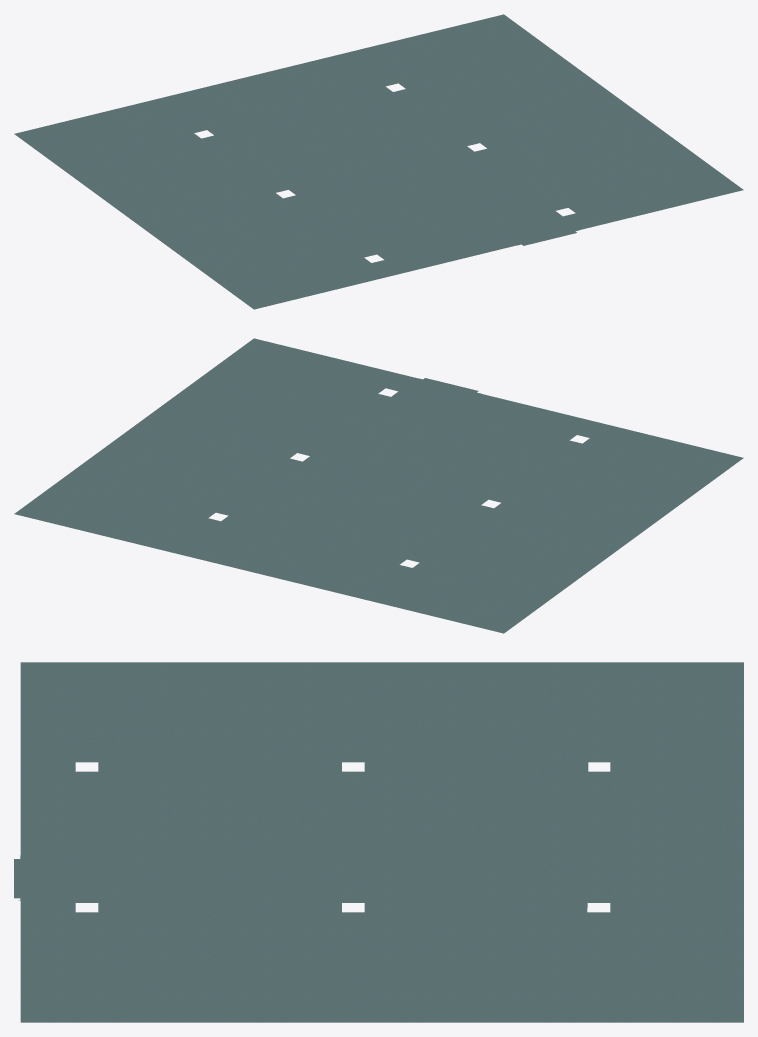
Rendered from SM_Floor.fbx.
3 views of the same model, one above another, from view 1: azimuth 30°, elevation 25°; view 2: azimuth 150°, elevation 25°; view 3: azimuth 270°, elevation 25° (orthographic). The views are drawn at different scales.
Parts seen in each view (by area): view 1: SM_Floor; view 2: SM_Floor; view 3: SM_Floor.
Boxes of the visible parts, <box> form: SM_Floor: <box>14,14,743,309</box>; SM_Floor: <box>14,338,743,633</box>; SM_Floor: <box>14,662,743,1022</box>.
Size of the model in its own units: 1291 by 0.0876 by 1106.
Materials: 1 (1 with a texture image).
